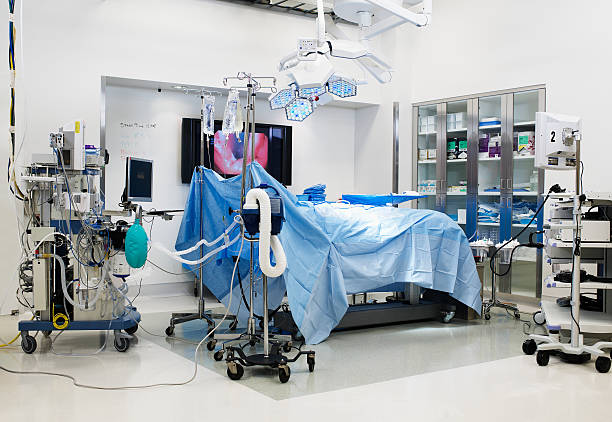TV: (171, 114, 306, 189)
bedside_monitor: (534, 110, 586, 177), (130, 160, 156, 204)
breathing_tube: (156, 235, 230, 264)
cabinet: (409, 93, 543, 304)
handle: (440, 194, 447, 208), (441, 181, 448, 195), (433, 195, 440, 209), (433, 180, 440, 194), (506, 197, 513, 211), (499, 197, 506, 211), (506, 179, 513, 193), (499, 177, 506, 191)
iv_pole: (183, 88, 221, 313), (222, 70, 277, 212), (227, 82, 277, 199)
operating_bed: (171, 188, 464, 338)
surgical_light: (269, 55, 357, 120)
ventilator: (21, 120, 127, 319)
